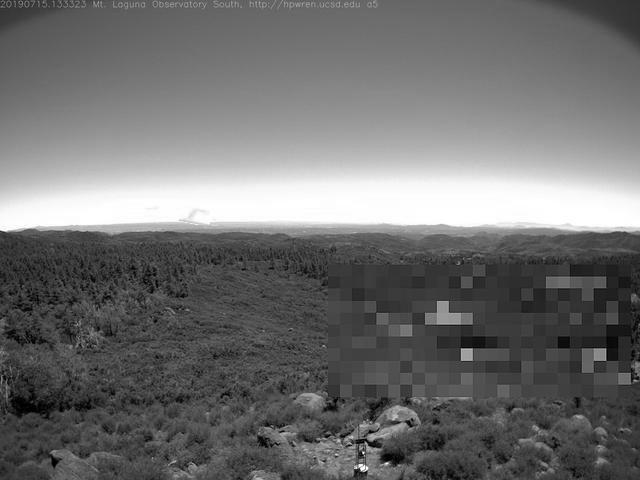smoke: (181, 205, 213, 226)
